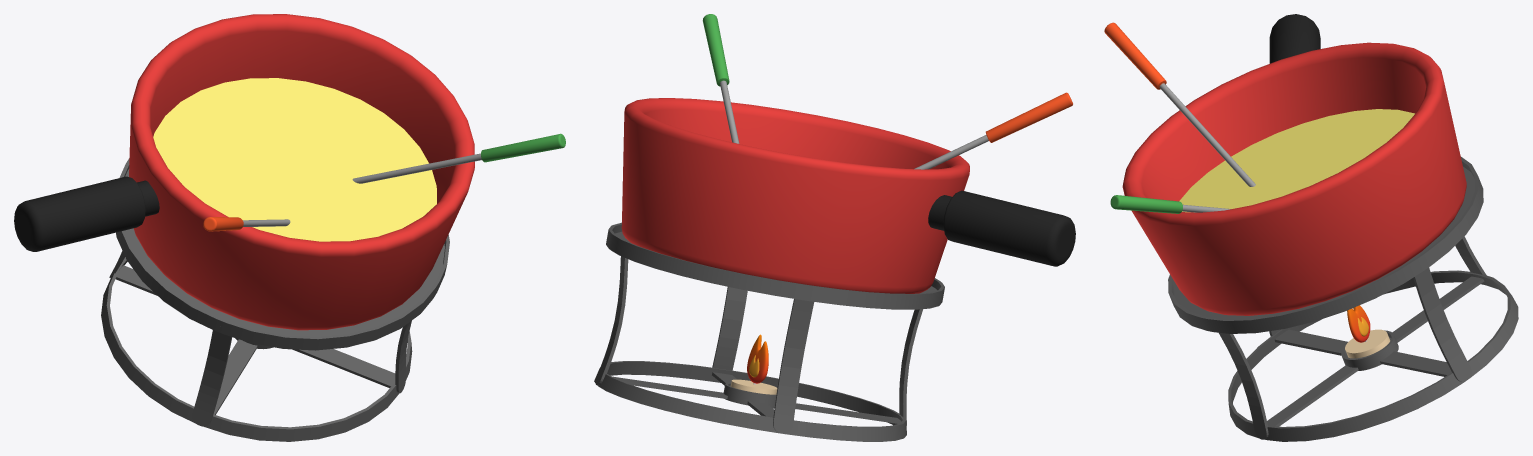
Rendered from fondue.gltf.
3 views of the same model, side by side, from view 1: azimuth 30°, elevation 25°; view 2: azimuth 150°, elevation 25°; view 3: azimuth 270°, elevation 25° (orthographic). The views are drawn at different scales.
Visible parts, largest first — view 1: Circle.2219, Circle.2226, Circle.2228, Circle.2227; view 2: Circle.2219, Circle.2226, Circle.2227, Circle.2228, Cube.406; view 3: Circle.2219, Circle.2226, Circle.2227, Circle.2228, Cube.406.
Part boxes in pixels (left/top/right/bottom): Circle.2219: left=14, top=14, right=474, bottom=330; Circle.2226: left=101, top=158, right=449, bottom=441; Circle.2228: left=352, top=133, right=565, bottom=183; Circle.2227: left=203, top=217, right=290, bottom=231; Circle.2219: left=621, top=98, right=1075, bottom=293; Circle.2226: left=594, top=222, right=944, bottom=441; Circle.2227: left=914, top=92, right=1072, bottom=169; Circle.2228: left=702, top=14, right=739, bottom=143; Cube.406: left=747, top=334, right=768, bottom=383; Circle.2219: left=1122, top=14, right=1466, bottom=315; Circle.2226: left=1168, top=156, right=1518, bottom=441; Circle.2227: left=1104, top=22, right=1255, bottom=186; Circle.2228: left=1110, top=195, right=1231, bottom=213; Cube.406: left=1347, top=305, right=1370, bottom=342.
Size of the model in its own units: 2.17 by 1.56 by 1.77.
2 materials, 2 textured.
